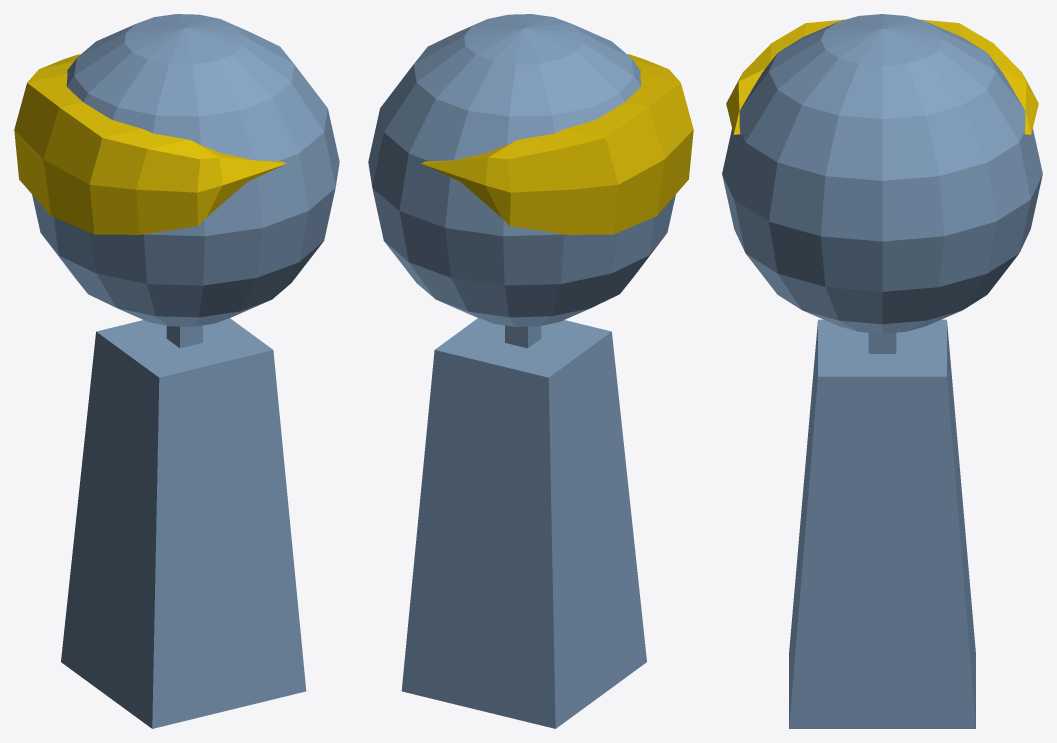
Rendered from spearman.glb.
3 views of the same model, side by side, from view 1: azimuth 30°, elevation 25°; view 2: azimuth 150°, elevation 25°; view 3: azimuth 270°, elevation 25° (orthographic). The views are drawn at different scales.
Visible parts, largest first — view 1: Cube, Mask; view 2: Cube, Mask; view 3: Cube, Mask.
Part boxes in pixels (<box>): Cube: <box>32,14,339,728</box>; Mask: <box>14,54,286,234</box>; Cube: <box>368,14,675,728</box>; Mask: <box>421,54,693,234</box>; Cube: <box>722,14,1042,728</box>; Mask: <box>726,19,1038,134</box>.
Size of the model in its own units: 0.9041 by 2.03 by 0.8896.
